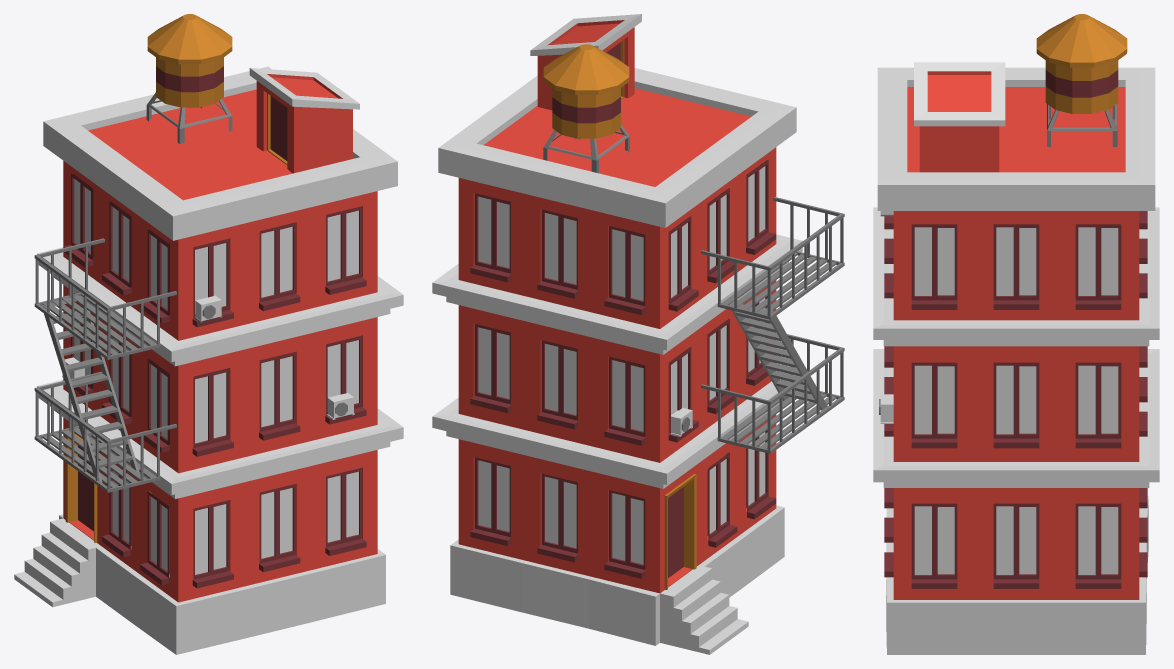
File: RRG_Apartment.fbx
3 renders of one model, left to right at view 1: azimuth 30°, elevation 25°; view 2: azimuth 150°, elevation 25°; view 3: azimuth 270°, elevation 25°, orthographic. The views are drawn at different scales.
Visible parts, largest first — view 1: AP, Escada Incendio, Ar Cond; view 2: AP, Escada Incendio; view 3: AP, Ar Cond.
Boxes of the visible parts, x1,y1,x2,y2 form: AP: (14, 14, 403, 654); Escada Incendio: (34, 238, 176, 492); Ar Cond: (62, 295, 354, 419); AP: (432, 14, 802, 654); Escada Incendio: (701, 197, 844, 453); AP: (873, 14, 1159, 654); Ar Cond: (879, 211, 893, 423).
Size of the model in its own units: 286 by 523 by 233.
